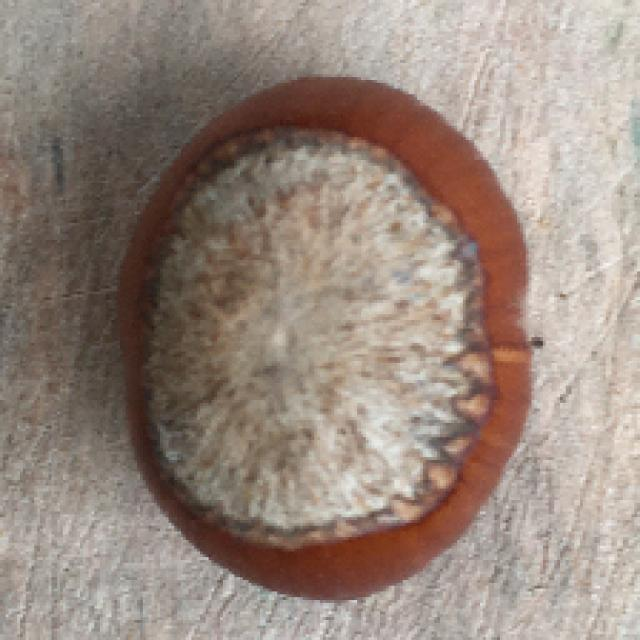qualityHazelnut: (110, 68, 536, 602)
